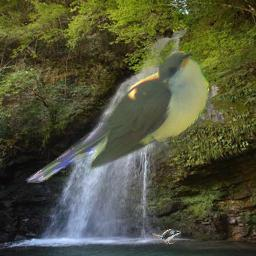Cuckoo: (24, 51, 209, 183)
Swallow: (152, 229, 181, 244)
